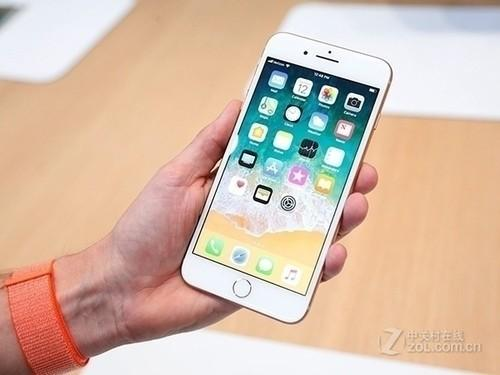phone: (180, 31, 395, 323)
